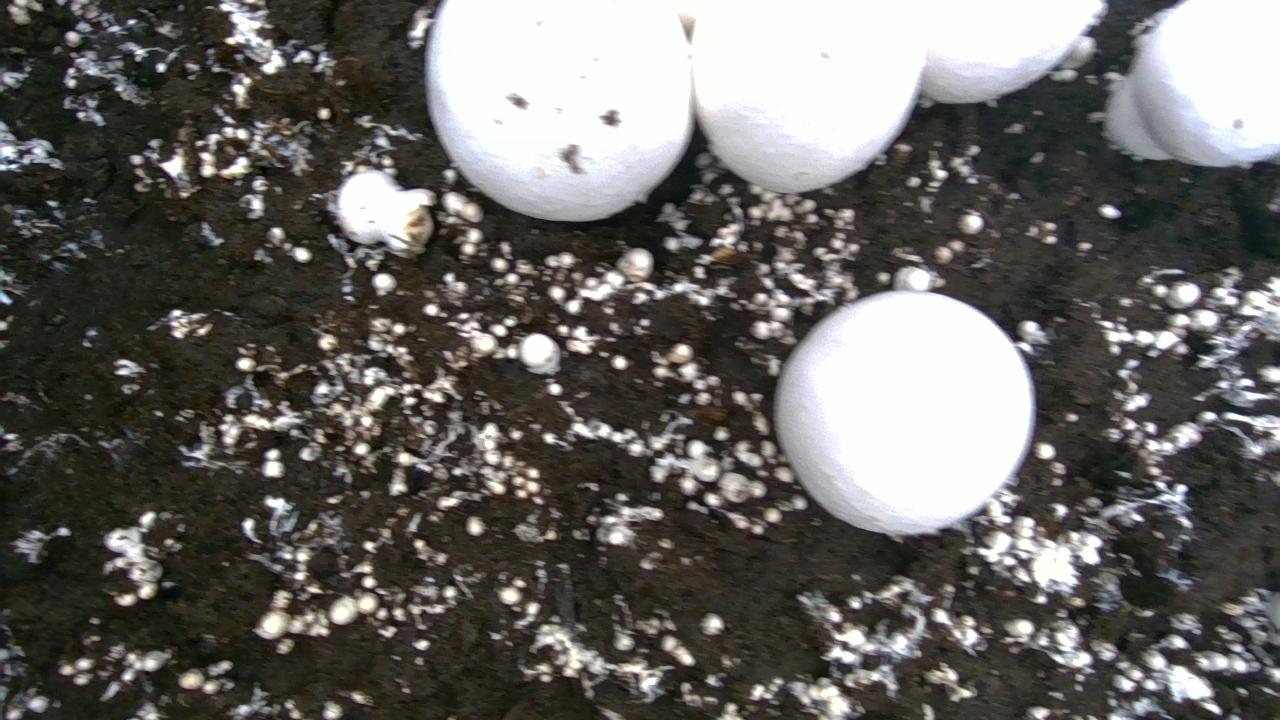WB: (774, 291, 1034, 534), (426, 0, 692, 220), (692, 4, 925, 191), (1136, 0, 1280, 164), (921, 0, 1104, 102), (1104, 77, 1171, 159), (334, 169, 405, 244)
